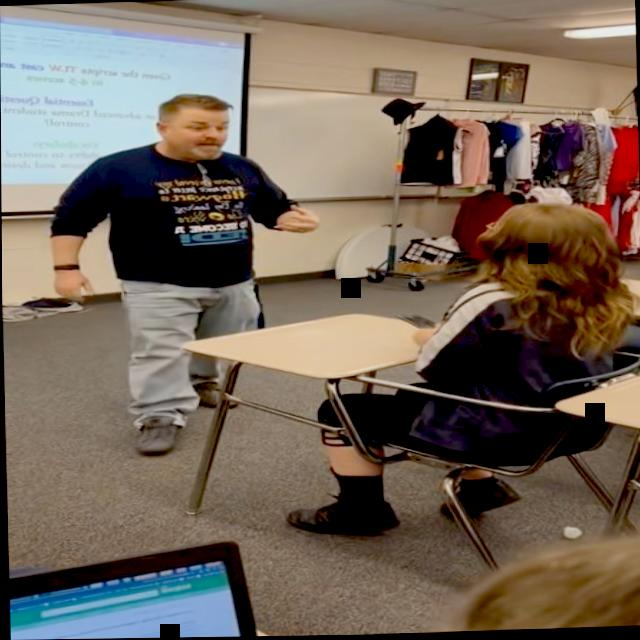NO-Mask: (156, 98, 234, 164)
